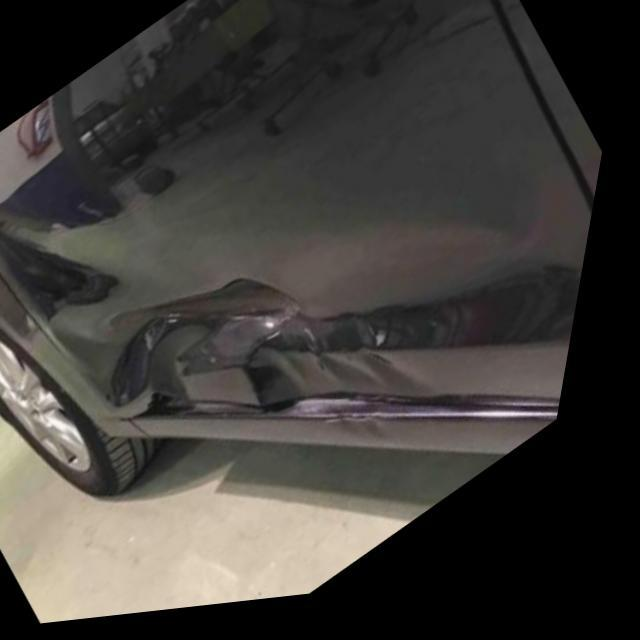dent: (121, 283, 431, 450)
